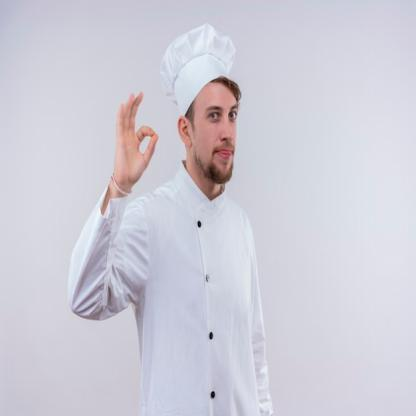ok: (113, 88, 162, 184)
